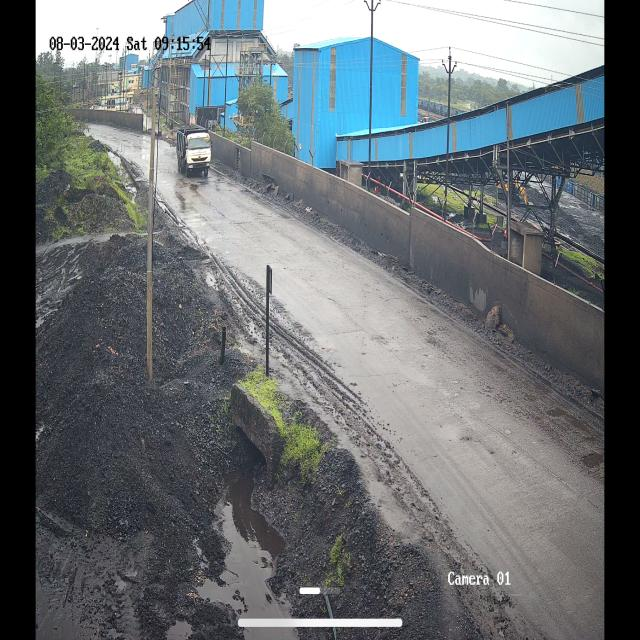dump_truck: (179, 126, 212, 177)
